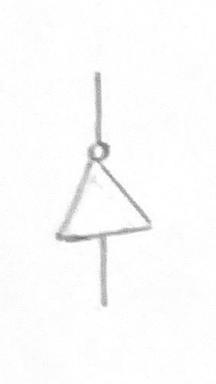NOT: (55, 131, 158, 254)
